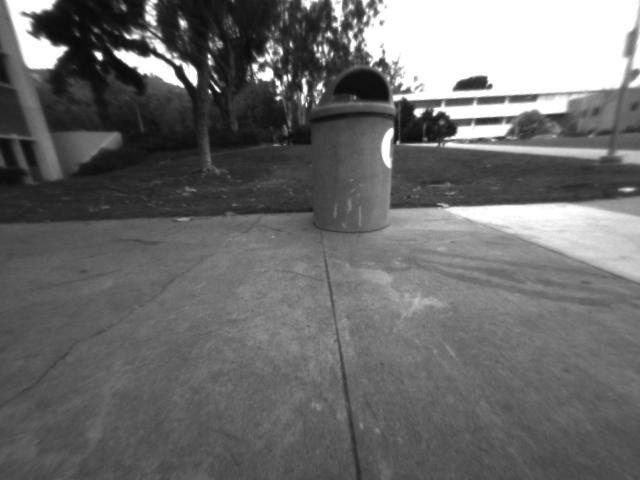trashcan: (295, 58, 421, 251)
